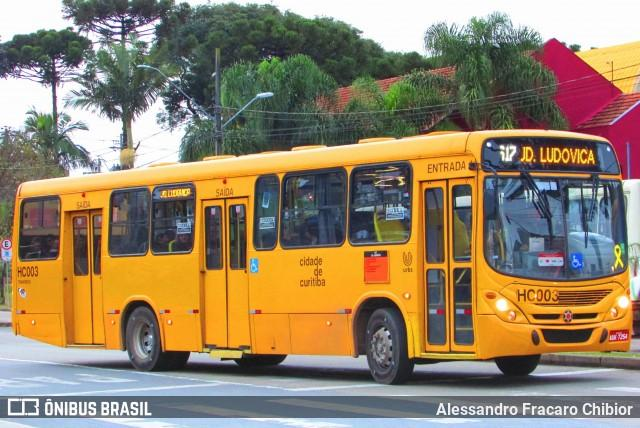JD LUDOVICA: (518, 145, 598, 167)
